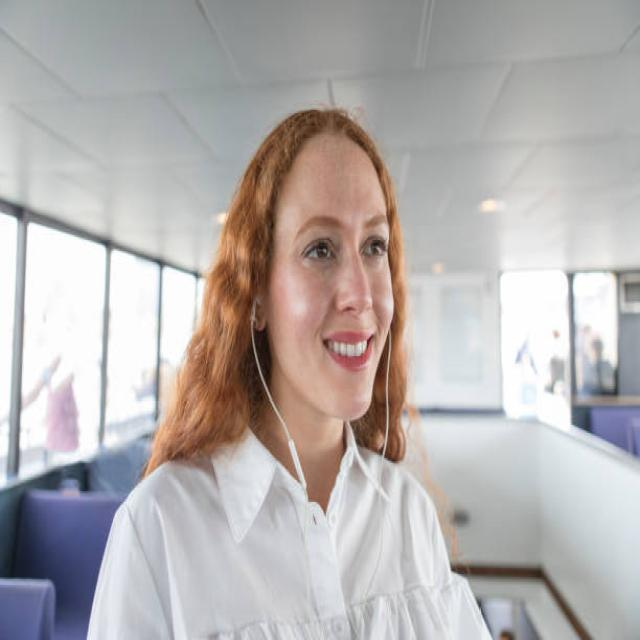Earphone: (248, 288, 389, 640)
